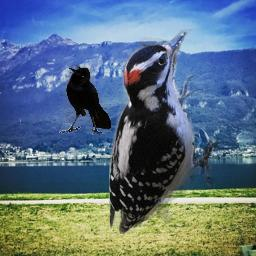Crow: (59, 65, 111, 135)
Woodpecker: (109, 29, 220, 234)
